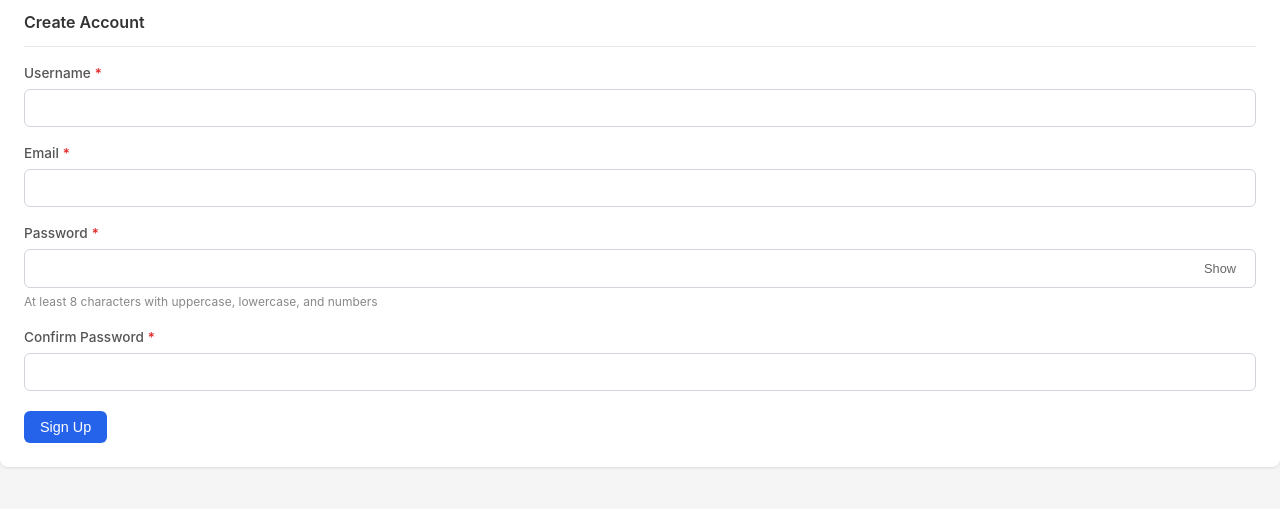
Test: SignUpForm › shows error when passwords do not match
Type "testuser" into the field labelled "Username*" at (640,108), box top-left (24, 89), bottom-right (1256, 127)
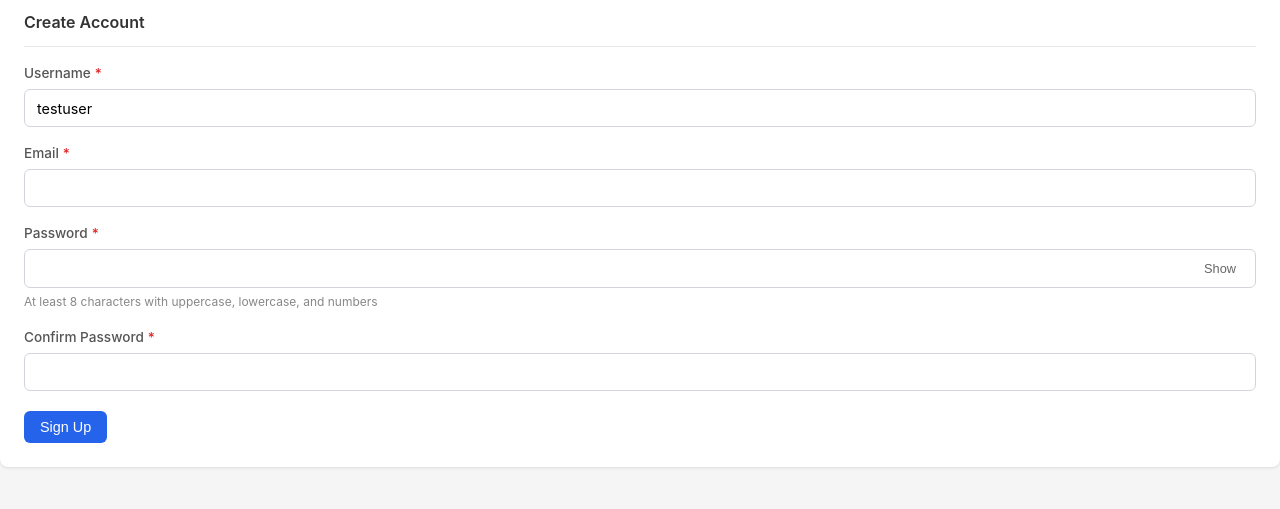
Type "test@example.com" into the field labelled "Email*" at (640,188), box top-left (24, 169), bottom-right (1256, 207)
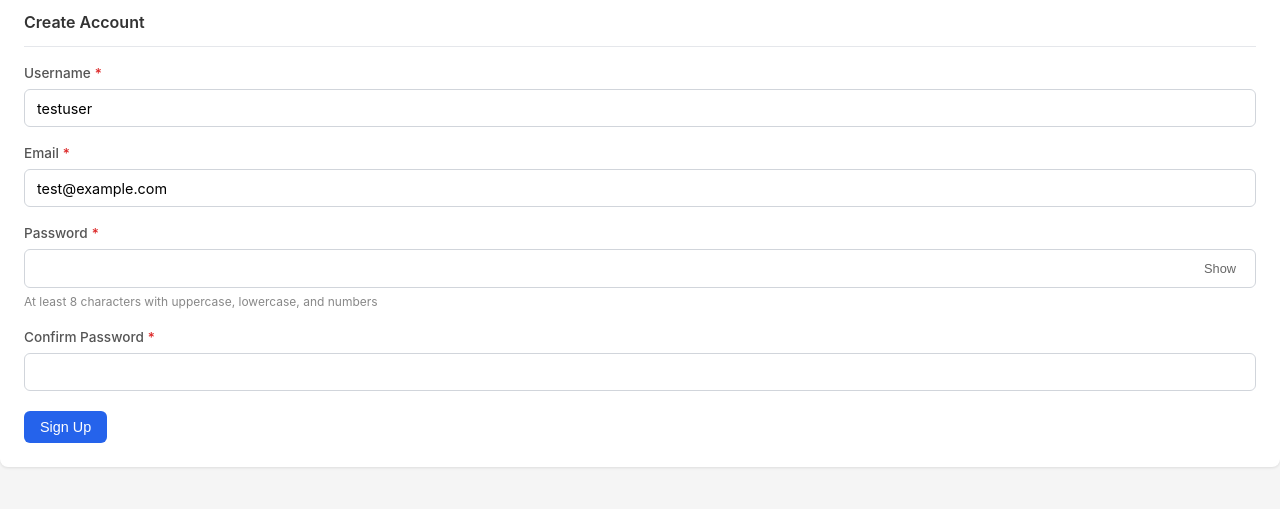
Type "Password123" into the password field labelled "Password*" at (640,268), box top-left (24, 249), bottom-right (1256, 288)
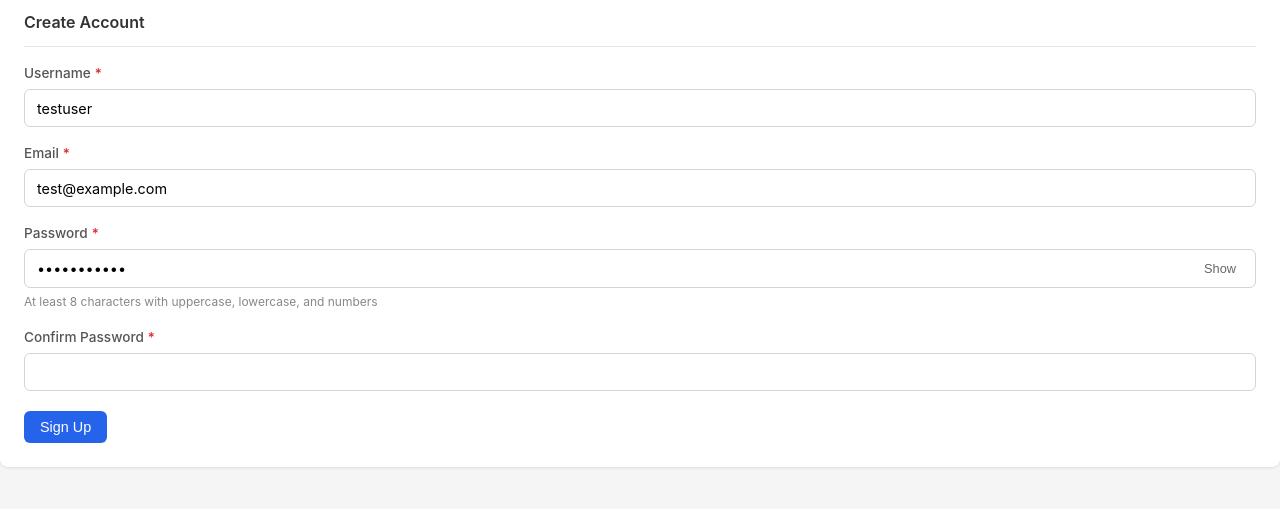
Type "Different123" into the password field with id "confirmPassword" at (640,372), box top-left (24, 353), bottom-right (1256, 391)
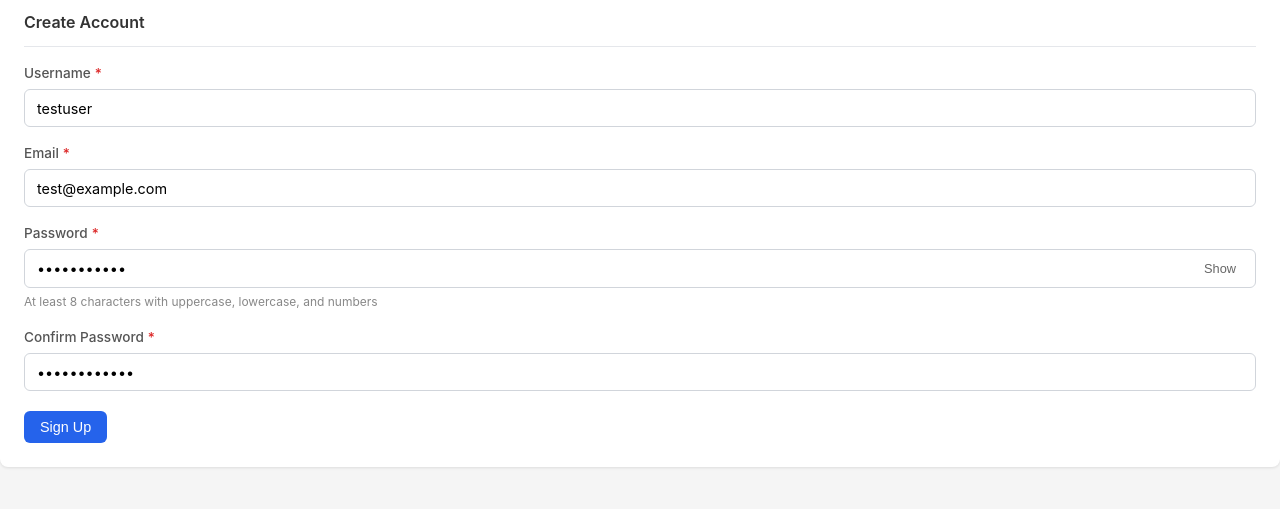
Click the button "Sign Up" at (66,427), box top-left (24, 411), bottom-right (107, 443)
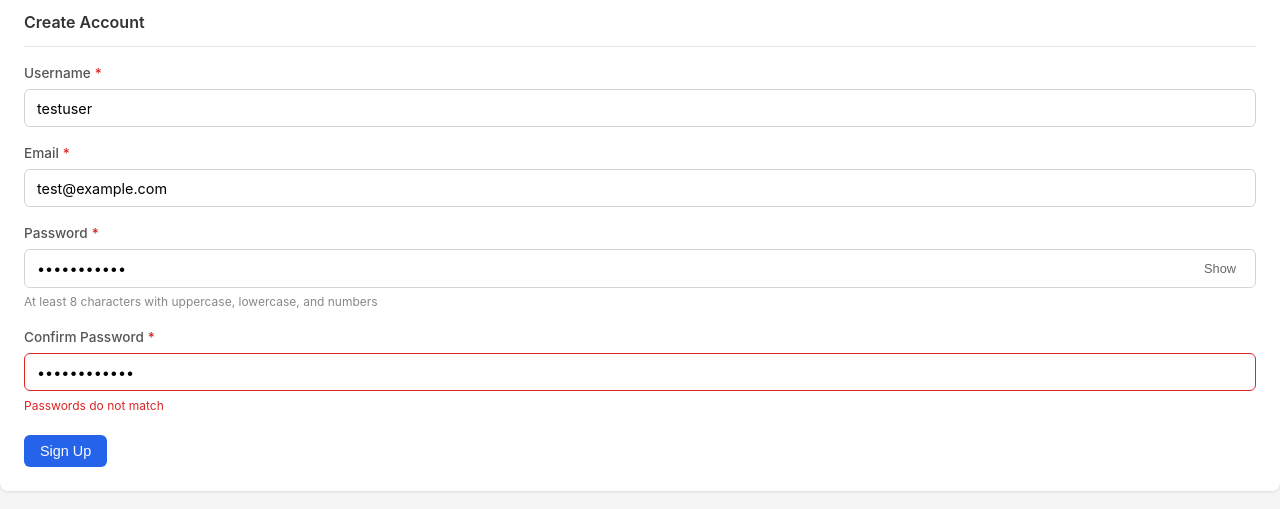
Check: the text "Passwords do not match" is shown, box top-left (24, 398), bottom-right (164, 413)
